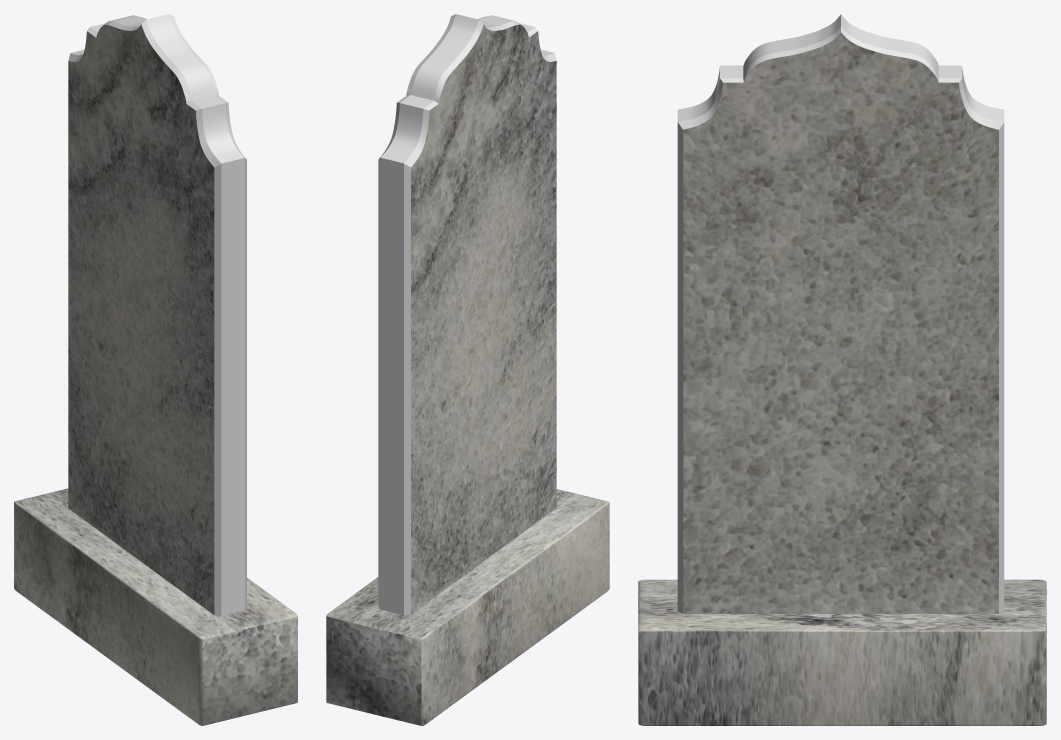
File: Памятник Полевской [marble_u_u] (80).glb
The picture shows the model from 3 angles, left to right: view 1: azimuth 30°, elevation 25°; view 2: azimuth 150°, elevation 25°; view 3: azimuth 270°, elevation 25°; orthographic projection. The views are drawn at different scales.
Parts seen in each view (by area): view 1: Cube.054; view 2: Cube.054; view 3: Cube.054.
Boxes of the visible parts, left/top/right/bottom form: Cube.054: left=14, top=14, right=297, bottom=725; Cube.054: left=326, top=14, right=609, bottom=725; Cube.054: left=638, top=14, right=1046, bottom=725.
Size of the model in its own units: 0.15 by 0.9206 by 0.5.
2 materials, 1 textured.
